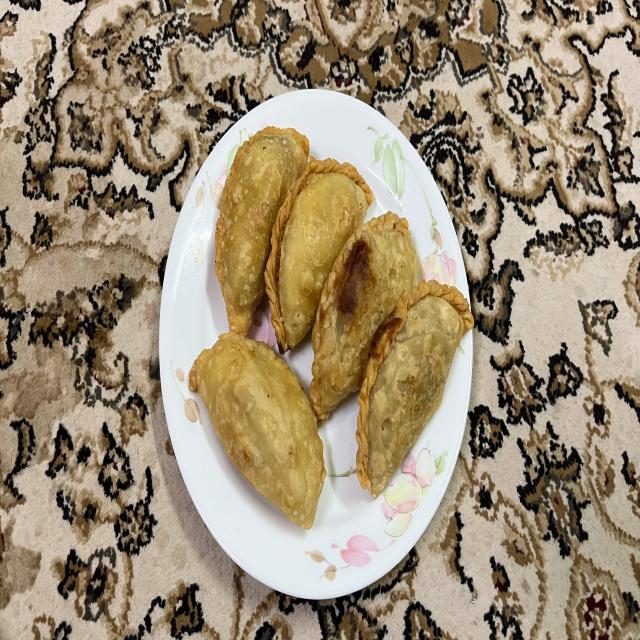karipap: (189, 331, 326, 529), (356, 280, 474, 498), (310, 211, 419, 422), (265, 158, 374, 353), (215, 127, 309, 336)
